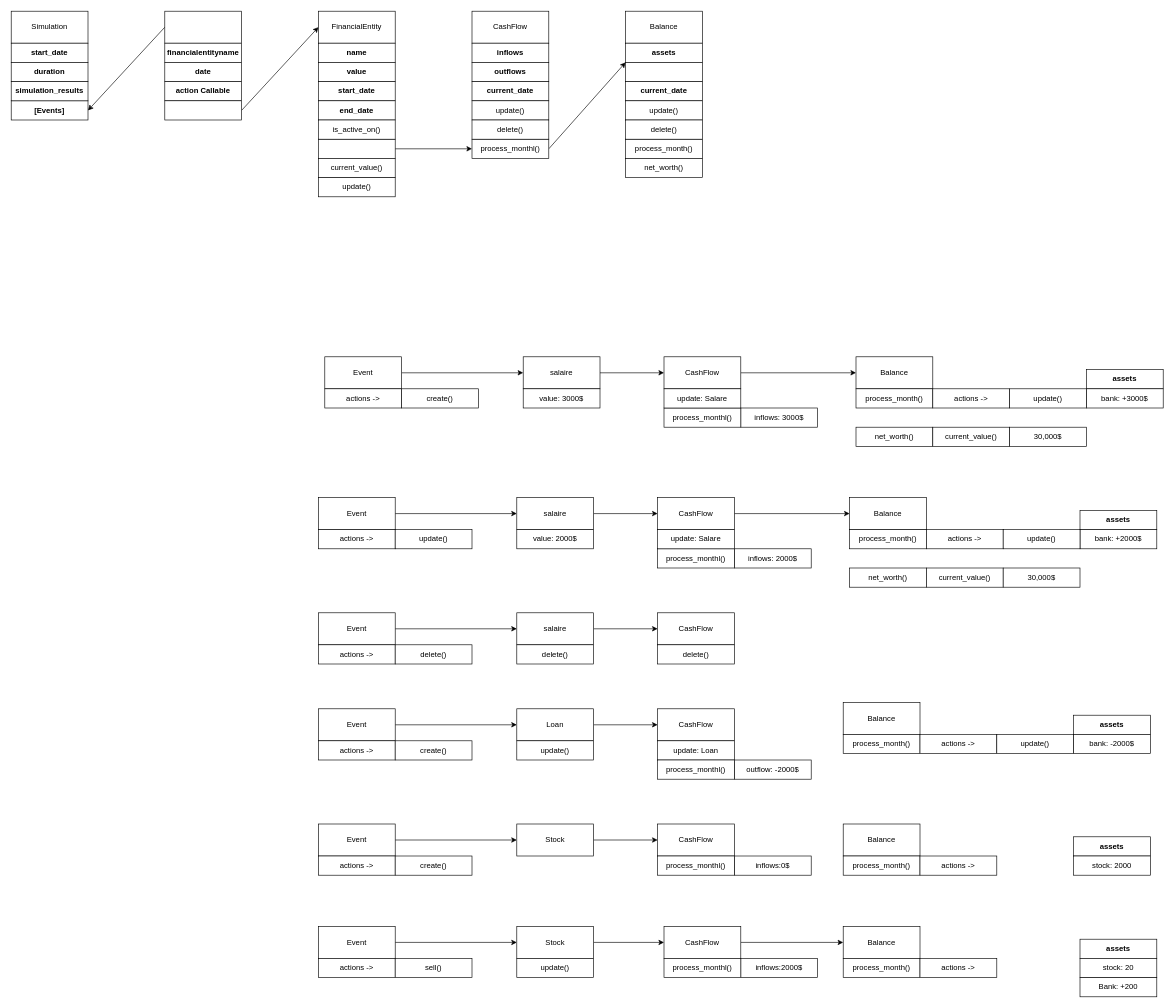
Image size: 1174x1008. Some labels were removed from this diagram. Here are the shapes that lost their labels. From the top down, the box of each, then its label:
(164, 11, 242, 43): FinancialEvent
(625, 62, 702, 82): liabilities
(164, 100, 242, 120): create, delete, update
(318, 139, 395, 158): monthly_cashflow()
